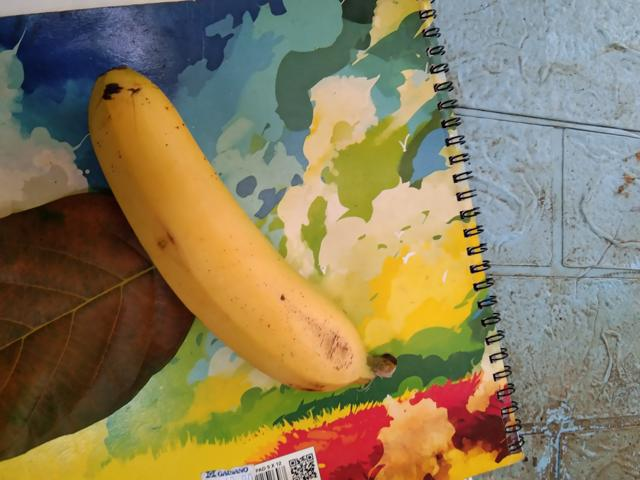freshripe: (84, 59, 384, 385)
